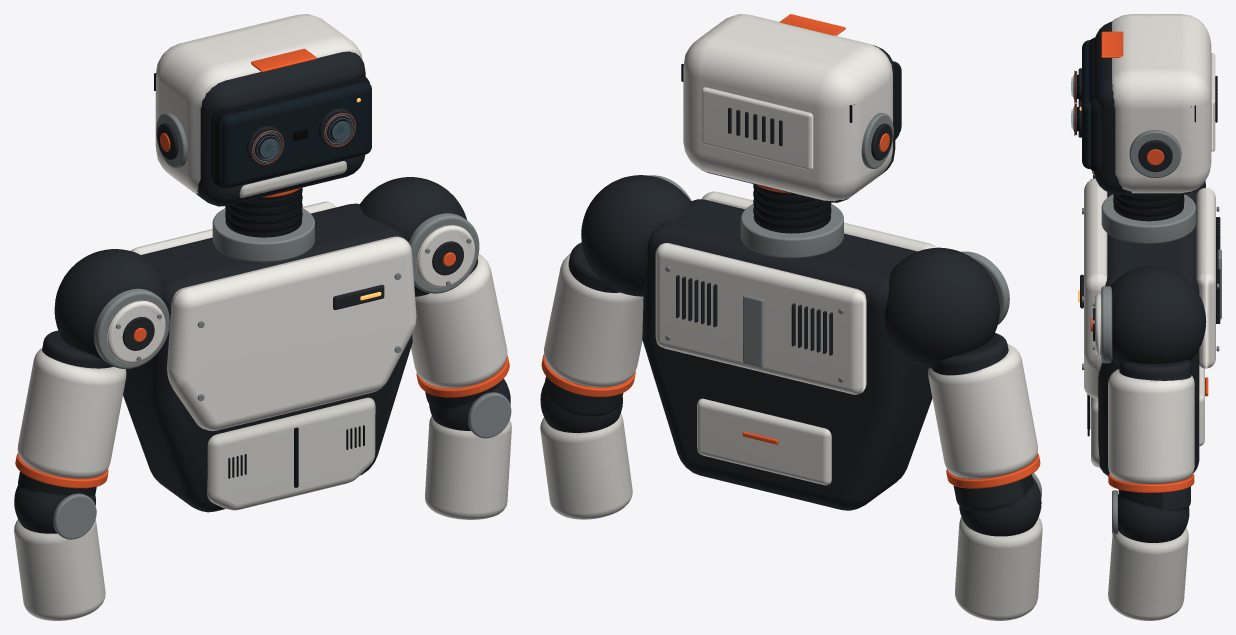
File: defex-robot.glb
3 renders of one model, left to right at view 1: azimuth 30°, elevation 25°; view 2: azimuth 150°, elevation 25°; view 3: azimuth 270°, elevation 25°, orthographic. The views are drawn at different scales.
Visible parts, largest first — view 1: Defex precision robot — web optimized; view 2: Defex precision robot — web optimized; view 3: Defex precision robot — web optimized.
Boxes of the visible parts, x1,y1,x2,y2 form: Defex precision robot — web optimized: (14,14,511,620); Defex precision robot — web optimized: (540,14,1042,620); Defex precision robot — web optimized: (1071,14,1221,620).
Bounding box in the file's own units: 3.07 × 3.11 × 0.8945.
